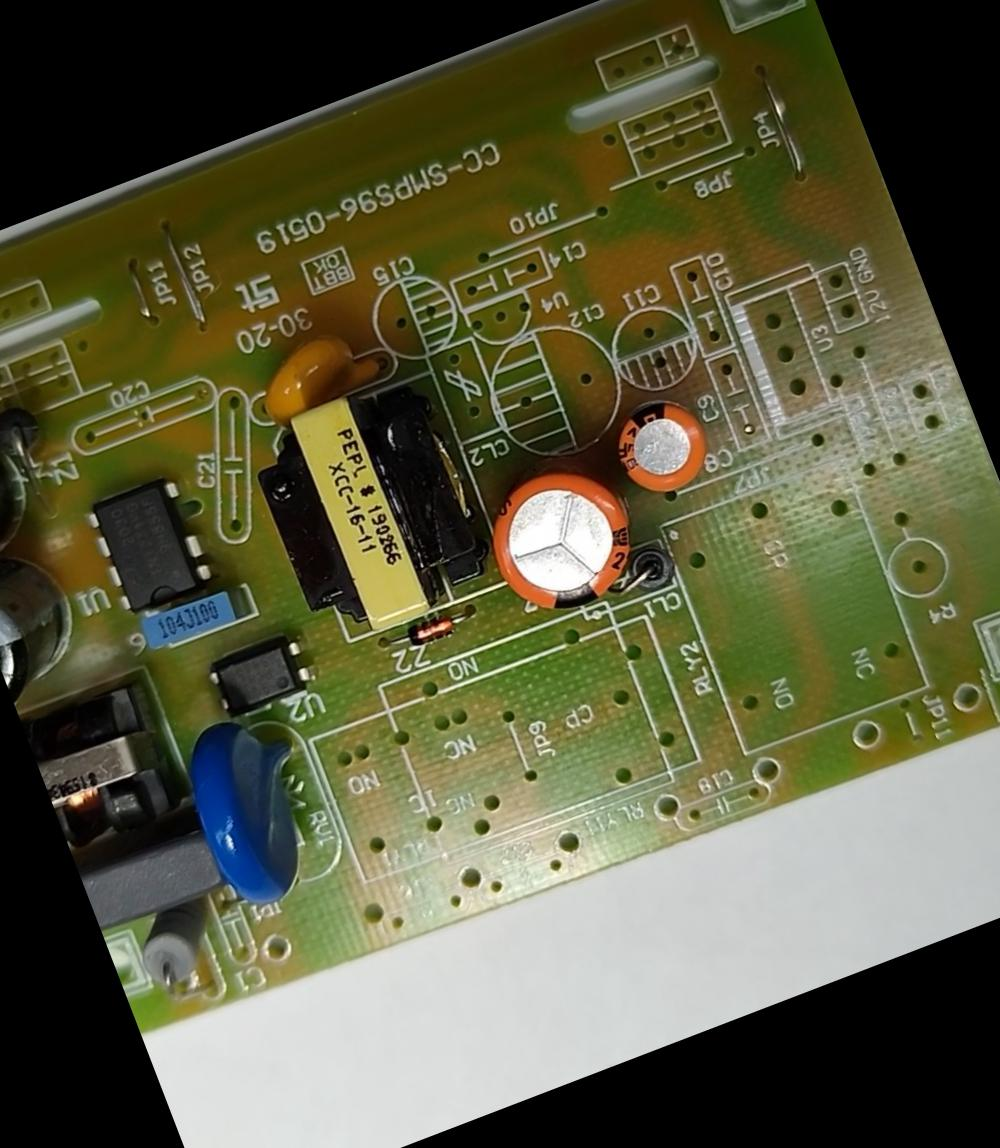Cap1: (466, 447, 656, 633)
Cap2: (601, 387, 724, 509)
Cap3: (0, 548, 106, 716)
Cap4: (0, 405, 48, 580)
MOSFET: (83, 476, 222, 620)
Mov: (170, 701, 342, 925)
Resistor: (120, 896, 231, 1002)
Transformer: (236, 369, 504, 662), (21, 679, 180, 860)
